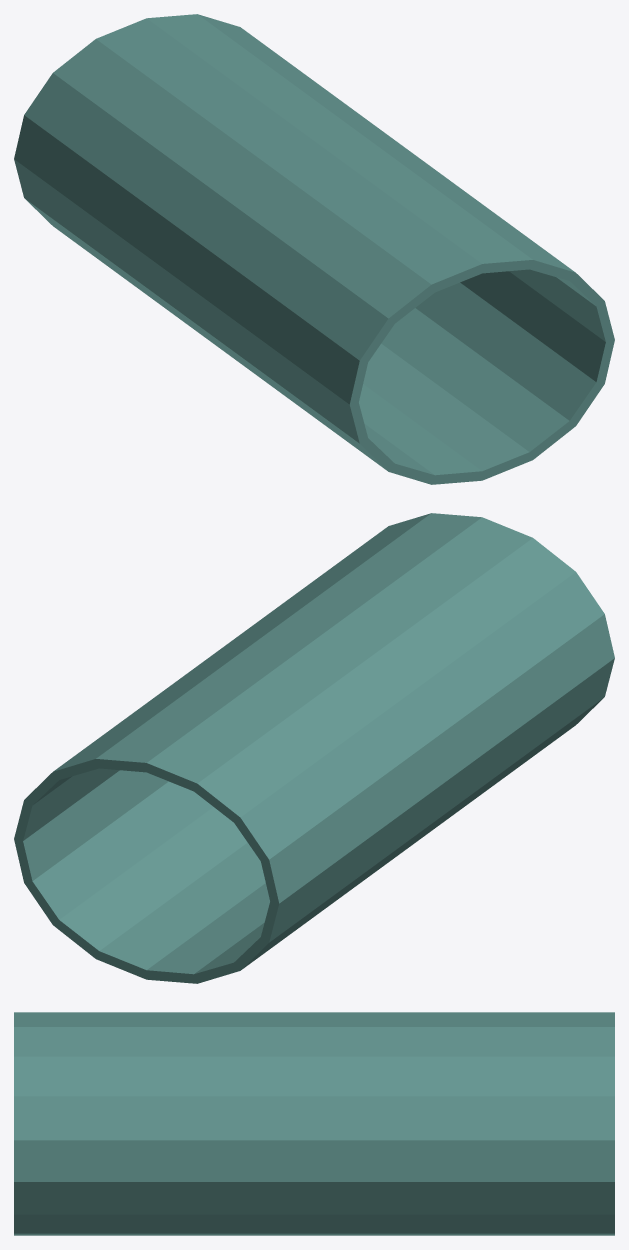
Rendered from growth_vat_glass.obj.
The picture shows the model from 3 angles, top to bottom: view 1: azimuth 30°, elevation 25°; view 2: azimuth 150°, elevation 25°; view 3: azimuth 270°, elevation 25°; orthographic projection. The views are drawn at different scales.
Parts seen in each view (by area): view 1: growth_vat_glass; view 2: growth_vat_glass; view 3: growth_vat_glass.
Part boxes in pixels (bbox=[...]): growth_vat_glass: bbox=[14, 14, 614, 484]; growth_vat_glass: bbox=[14, 513, 614, 983]; growth_vat_glass: bbox=[14, 1012, 614, 1235].
Size of the model in its own units: 0.73 by 0.57 by 1.6.
